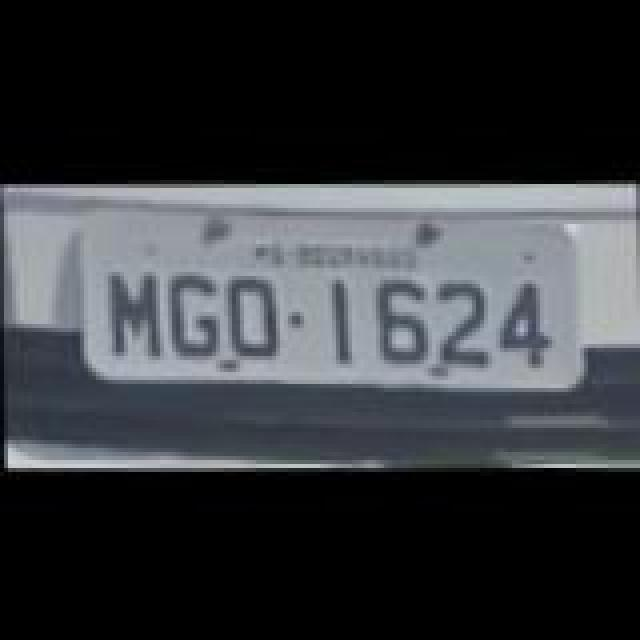1: (332, 274, 352, 358)
2: (438, 276, 494, 364)
4: (500, 274, 552, 362)
6: (378, 276, 434, 360)
G: (172, 270, 224, 354)
M: (106, 270, 162, 358)
O: (226, 272, 282, 352)
